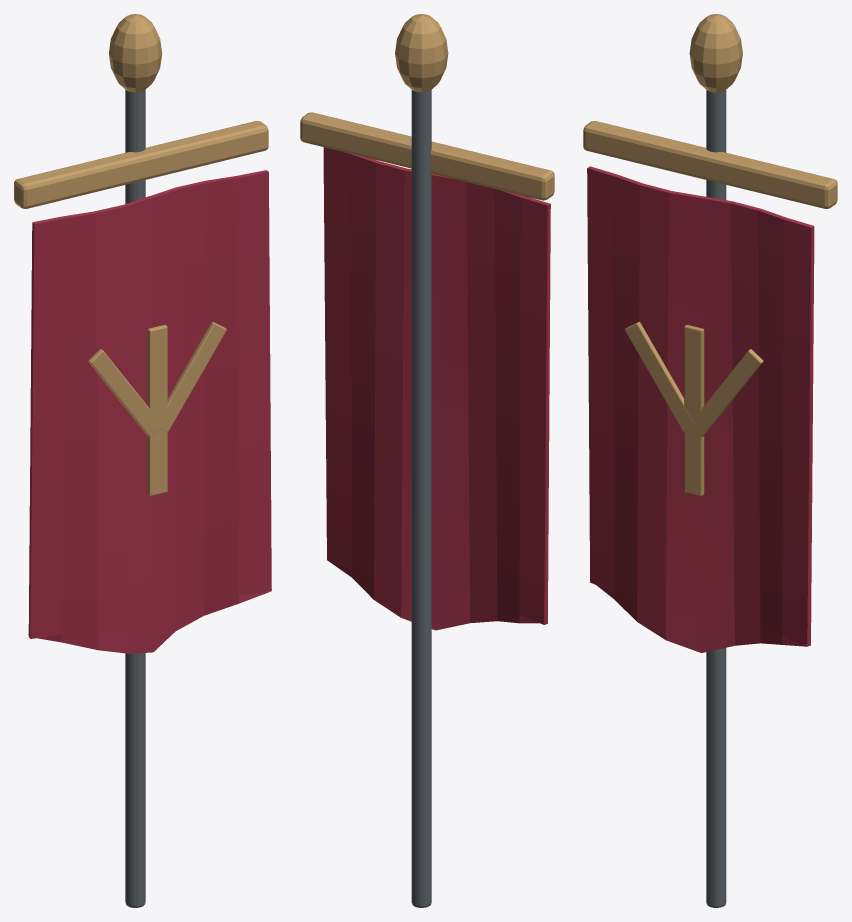
File: stage1_banner.glb
3 renders of one model, left to right at view 1: azimuth 30°, elevation 25°; view 2: azimuth 150°, elevation 25°; view 3: azimuth 330°, elevation 25°, orthographic.
Parts seen in each view (by area): view 1: SceneryRuntime; view 2: SceneryRuntime; view 3: SceneryRuntime.
Part boxes in pixels (bbox=[...]): SceneryRuntime: bbox=[14, 14, 271, 907]; SceneryRuntime: bbox=[300, 14, 554, 907]; SceneryRuntime: bbox=[583, 14, 837, 907].
Size of the model in its own units: 1.23 by 4.23 by 0.318.
